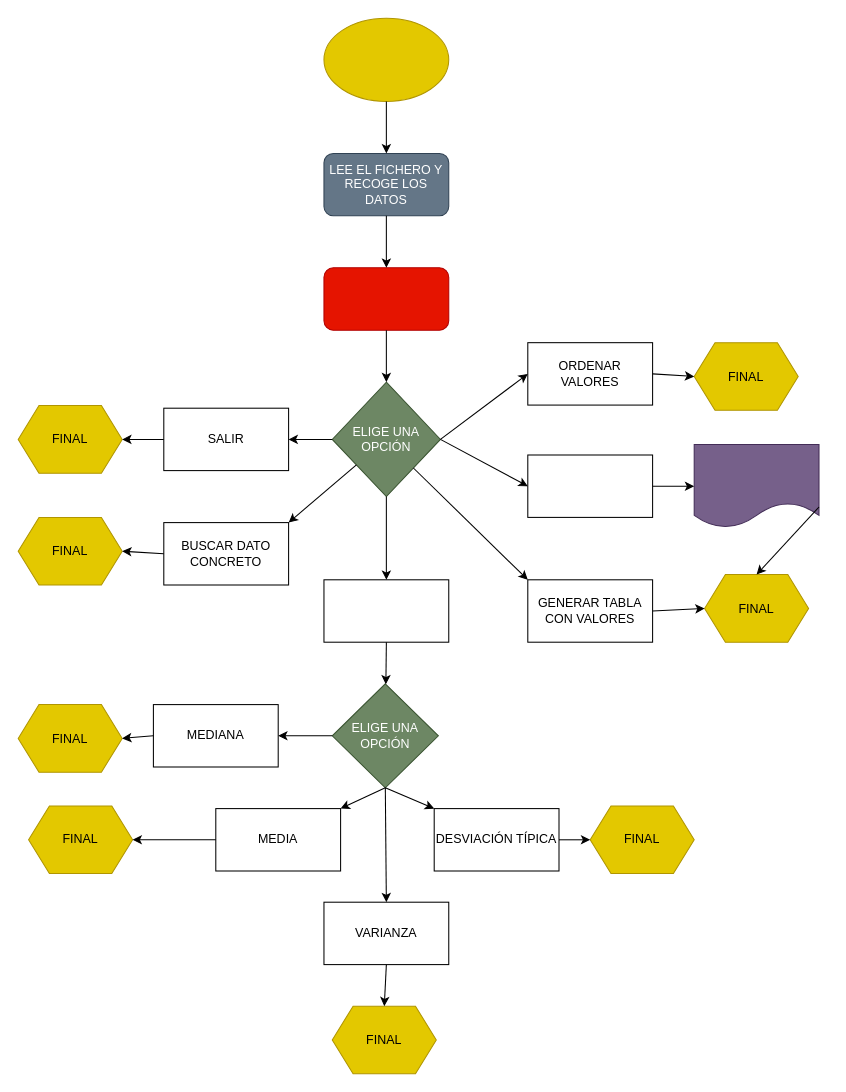
This 846x1092 diagram has some shape labels left out. The centre of each missing label's shape, as x and y in pixels:
CREAR FICHERO: pixel 590 485
GENERA FICHERO CON LOS DATOS SELECCIONADOS: pixel 756 486
INICIO: pixel 386 59
MENÚ: pixel 386 298
OPERACIONES ESTADÍSTICAS: pixel 386 610
